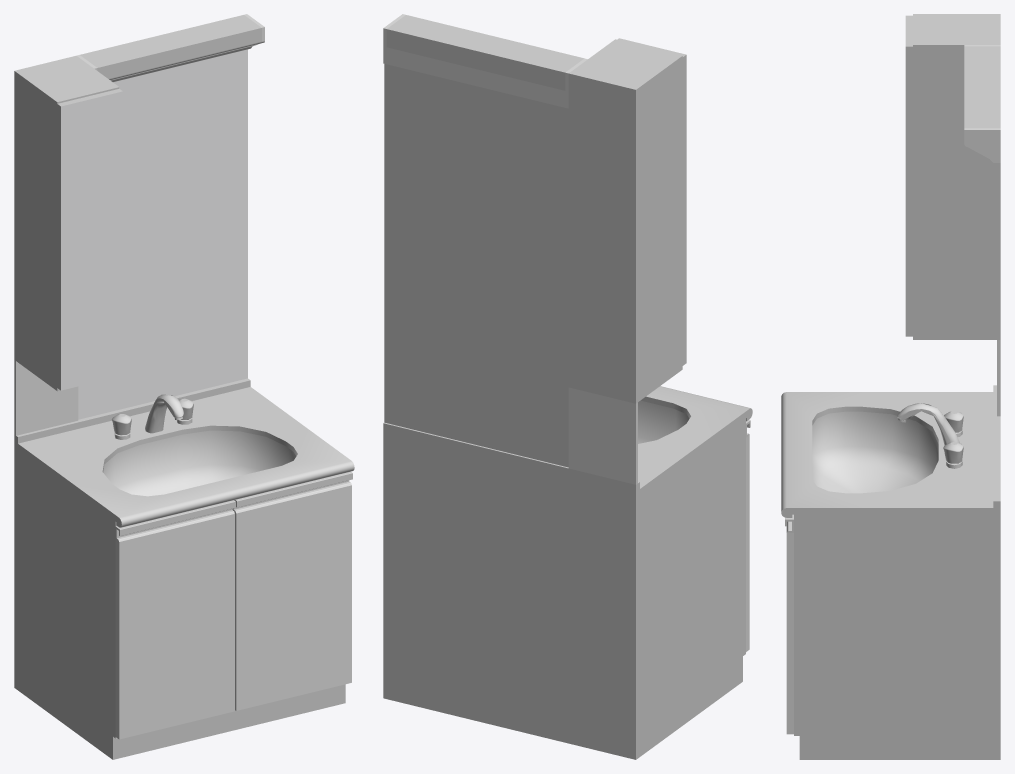
The picture shows the model from 3 angles, left to right: view 1: azimuth 30°, elevation 25°; view 2: azimuth 150°, elevation 25°; view 3: azimuth 270°, elevation 25°; orthographic projection. The views are drawn at different scales.
Visible parts, largest first — view 1: EditableMesh; view 2: EditableMesh; view 3: EditableMesh.
Boxes of the visible parts, x1,y1,x2,y2 form: EditableMesh: (14, 14, 354, 759); EditableMesh: (383, 14, 752, 759); EditableMesh: (781, 14, 1000, 759).
Bounding box in the file's own units: 0.75 × 1.9 × 0.6.
4 materials, 1 textured.
